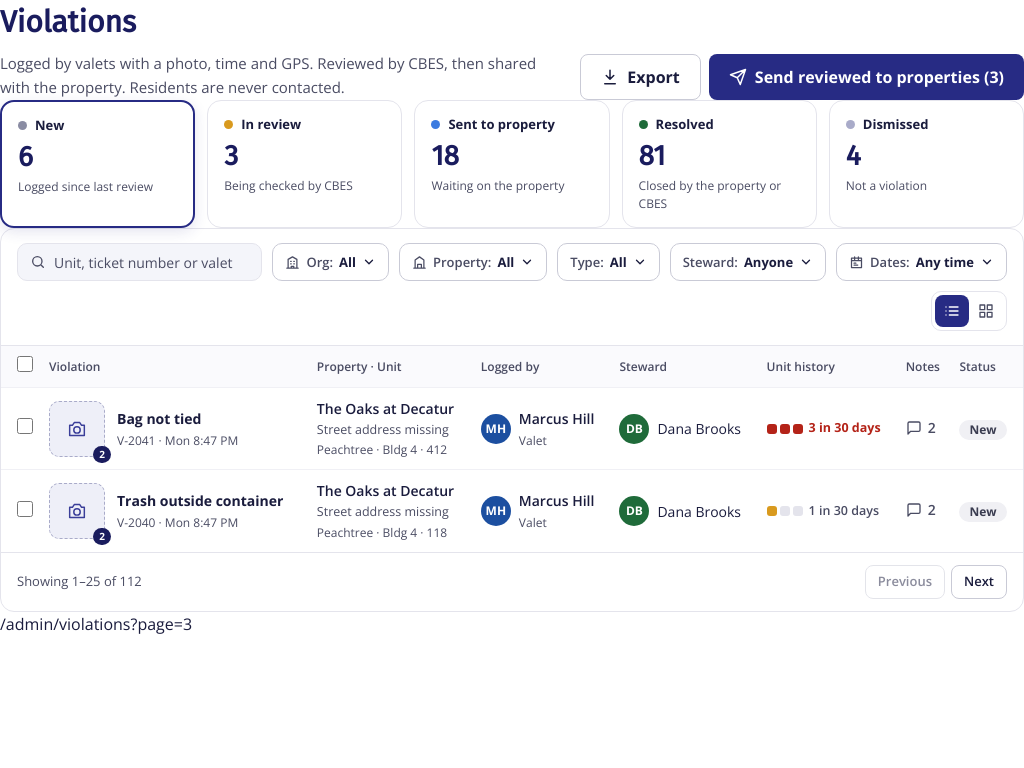
Test: ViolationsPage › filters by type and keeps the filter in the address
This screenshot has width=1024, height=768.
Click the button "Type: All".
click(608, 262)  # box left=557, top=243, right=660, bottom=281
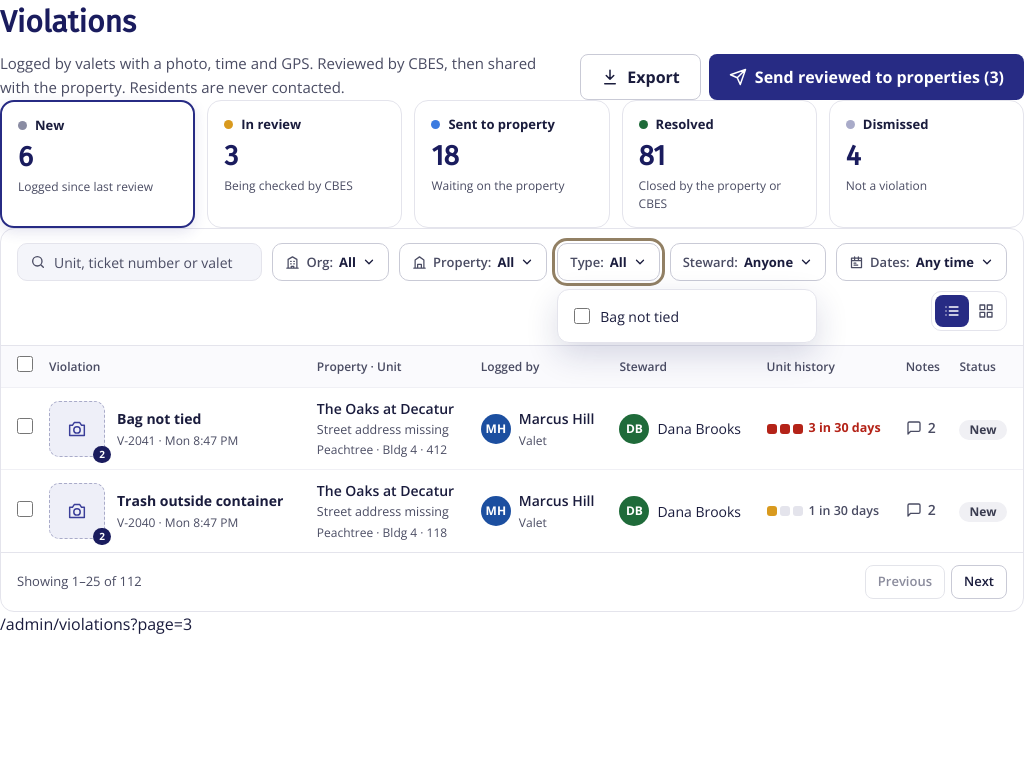
Click the checkbox labelled "Bag not tied".
click(582, 316)  # box left=574, top=308, right=590, bottom=324
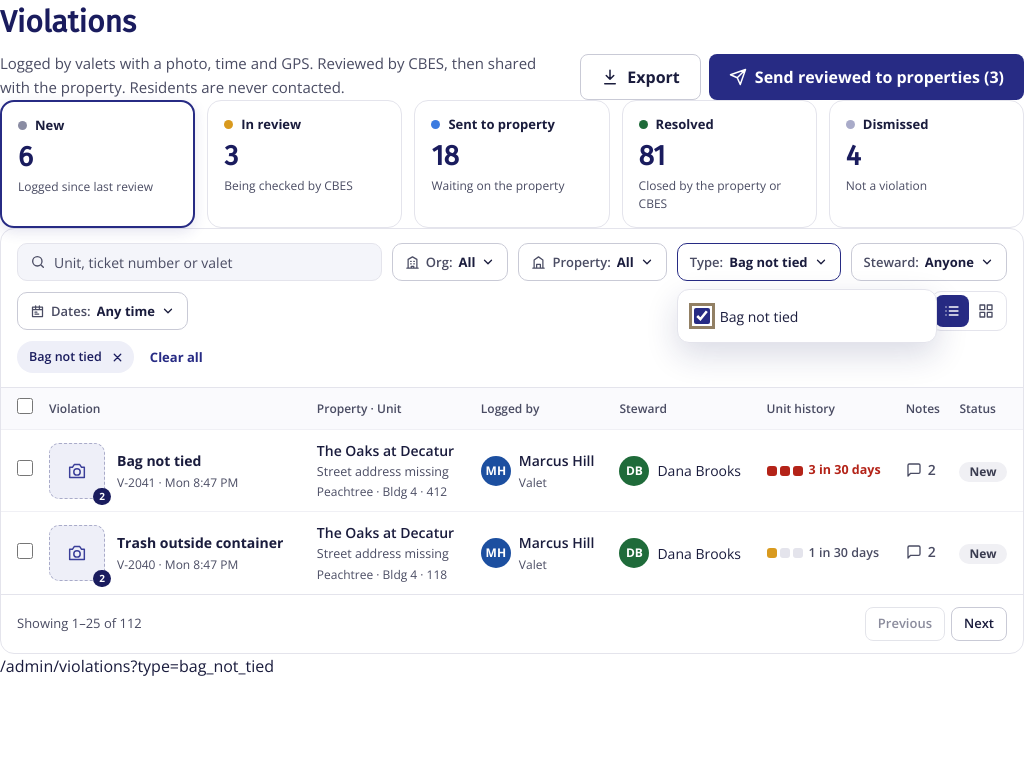
Expected: the text with test id "location" shows "type=bag_not_tied", left=0, top=655, right=274, bottom=677
Expected: the text with test id "location" no longer shows "page=3", left=0, top=655, right=274, bottom=677
